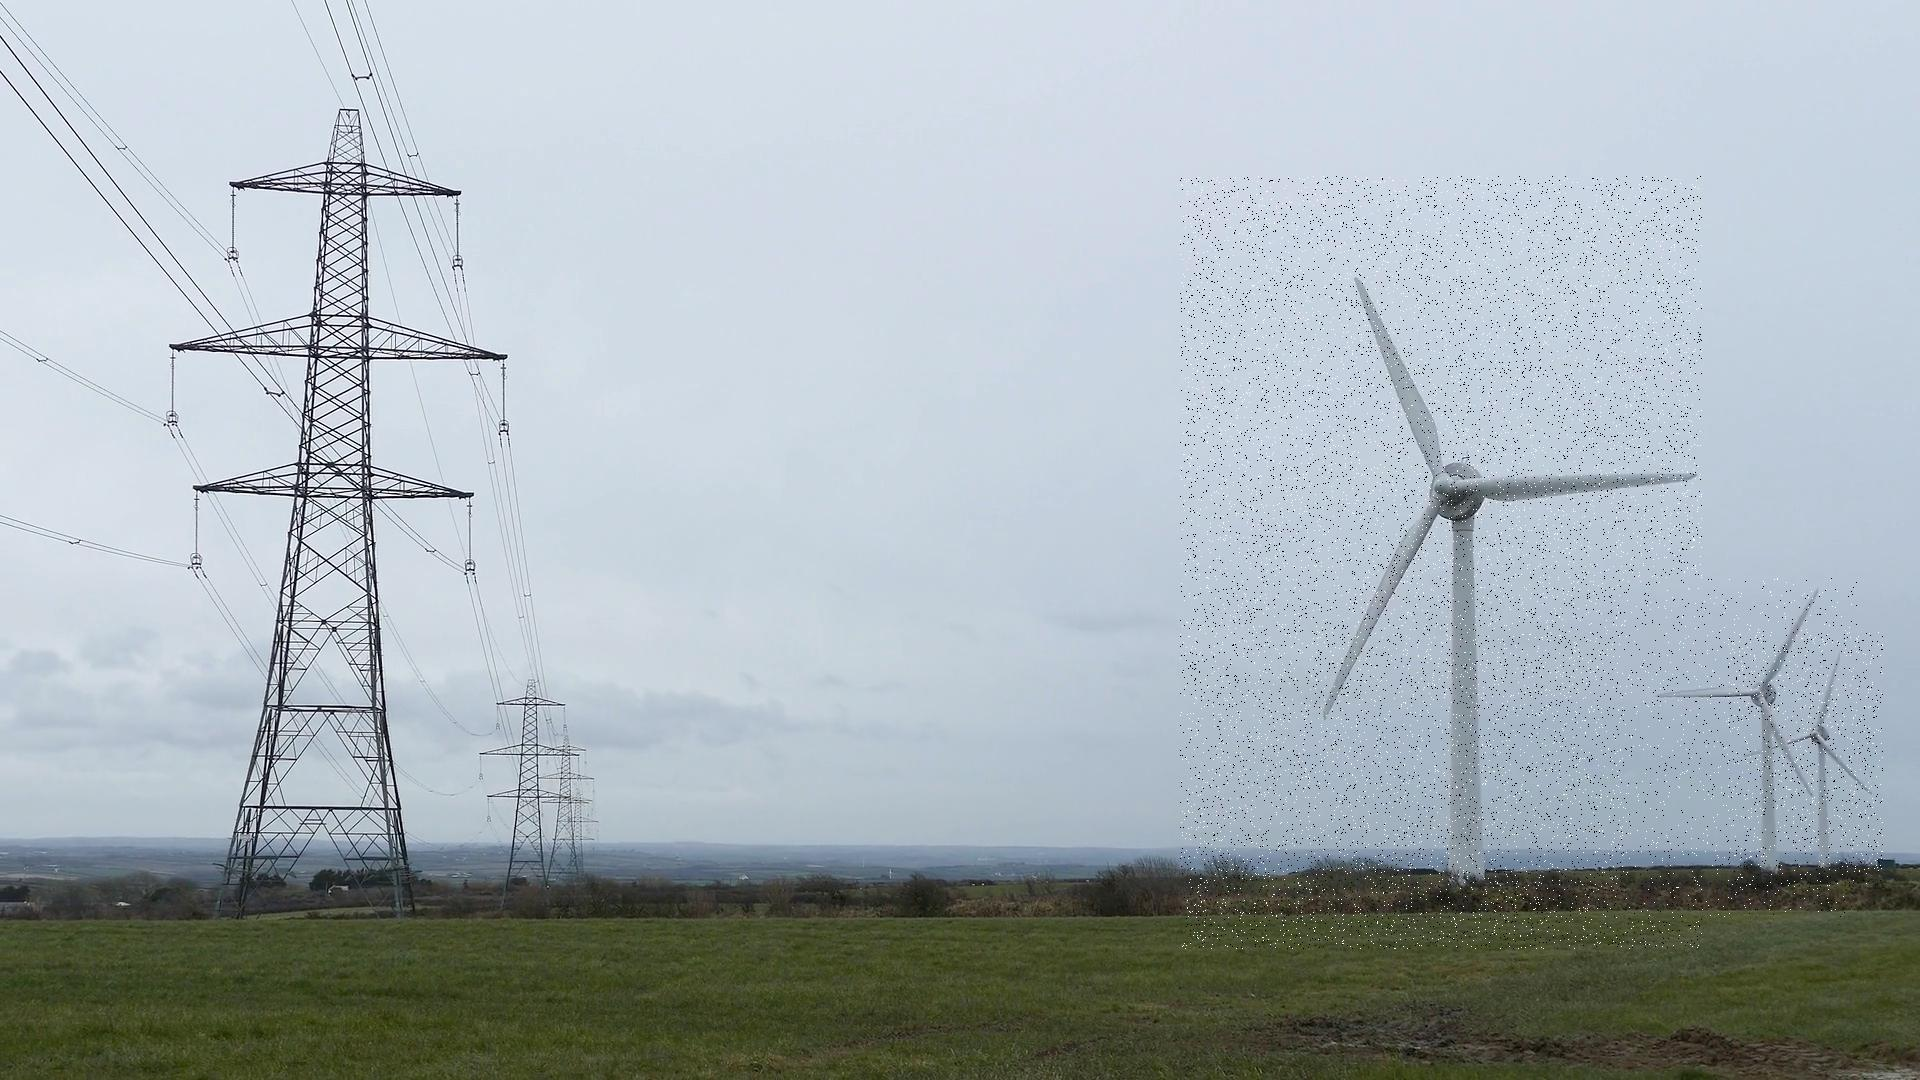cable tower: (164, 104, 506, 924), (471, 680, 580, 924), (537, 732, 597, 886), (559, 791, 600, 881)
turbine: (1180, 175, 1702, 949), (1627, 579, 1857, 918), (1727, 633, 1883, 887)
